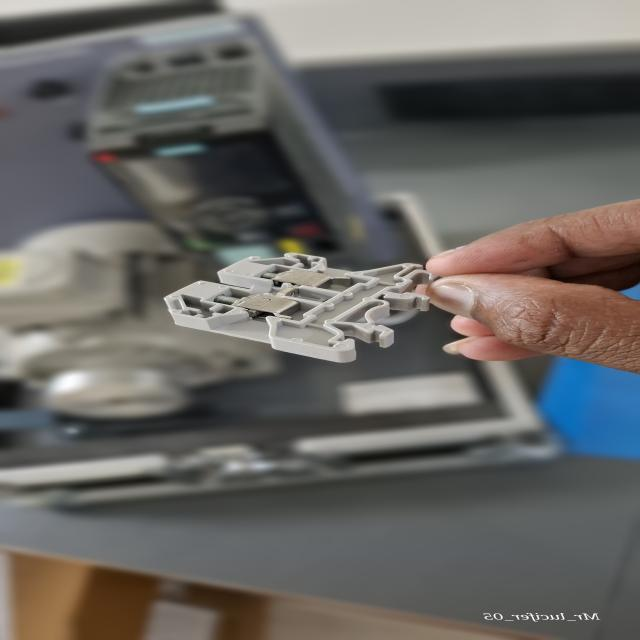Pass: (155, 248, 447, 366)
